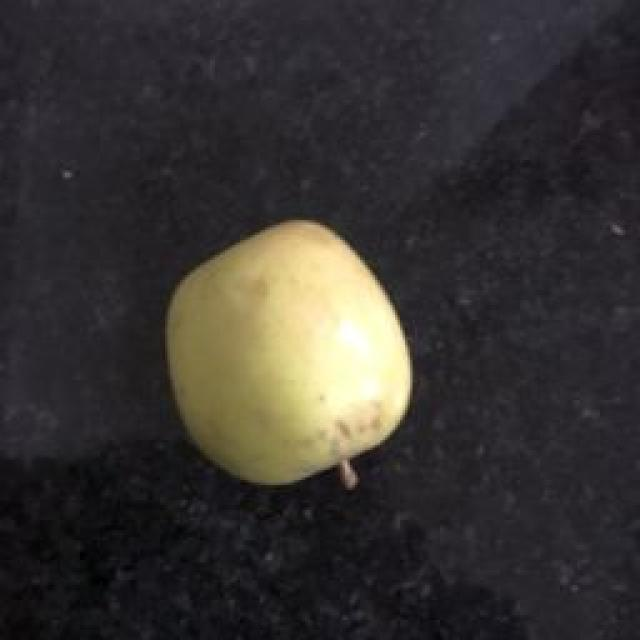Good_Apple: (162, 220, 412, 490)
